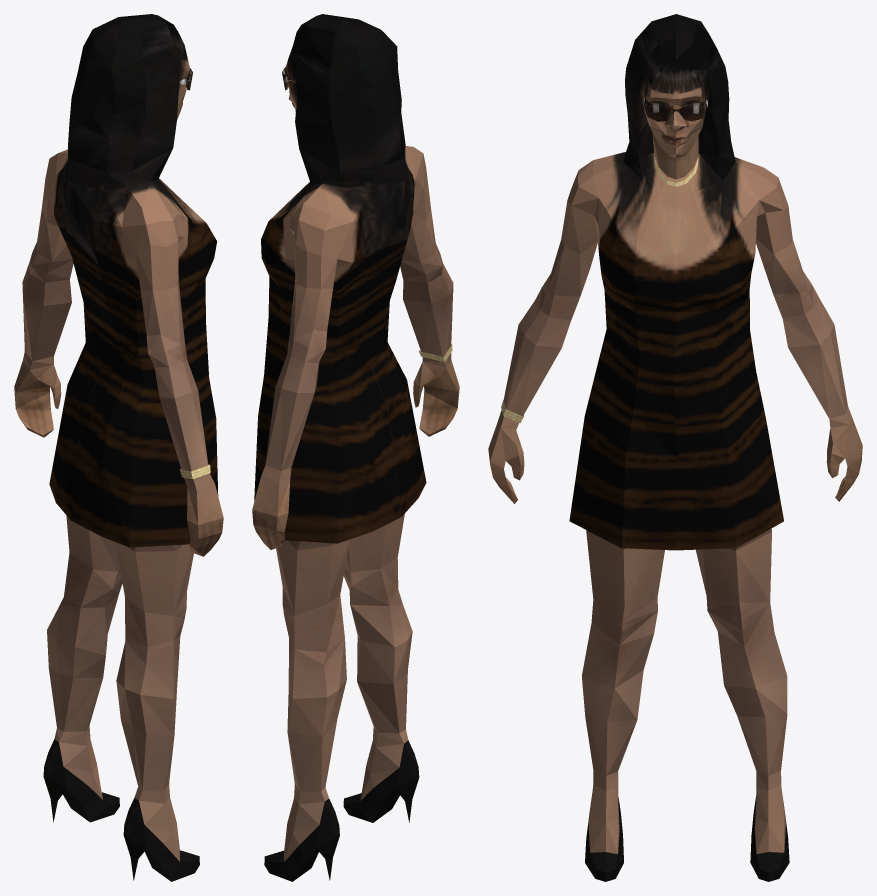
Rendered from ofyri.obj.
The picture shows the model from 3 angles, left to right: view 1: azimuth 30°, elevation 25°; view 2: azimuth 150°, elevation 25°; view 3: azimuth 270°, elevation 25°; orthographic projection. The views are drawn at different scales.
Parts seen in each view (by area): view 1: _Pelvis; view 2: _Pelvis; view 3: _Pelvis.
Boxes of the visible parts, x1,y1,x2,y2 form: _Pelvis: (14,14,223,881); _Pelvis: (252,14,459,881); _Pelvis: (488,14,862,881).
Bounding box in the file's own units: 0.2838 × 1.71 × 0.6856.
2 materials, 2 textured.
